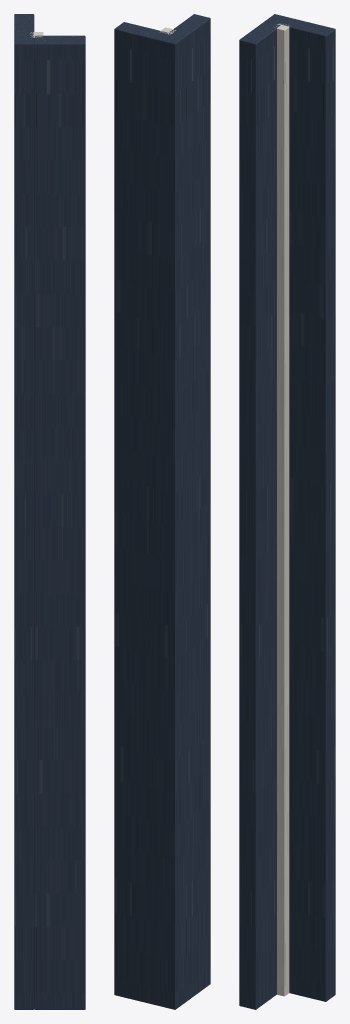
File: house_05_corner_trim.glb
3 views of the same model, side by side, from view 1: azimuth 90°, elevation 25°; view 2: azimuth 150°, elevation 25°; view 3: azimuth 330°, elevation 25° (orthographic).
Parts seen in each view (by area): view 1: house_05_corner_trim; view 2: house_05_corner_trim; view 3: house_05_corner_trim.
Part boxes in pixels (<box>): house_05_corner_trim: <box>14,14,85,1009</box>; house_05_corner_trim: <box>114,14,210,1009</box>; house_05_corner_trim: <box>239,14,335,1009</box>.
Bounding box in the file's own units: 0.18 × 2.7 × 0.18.
2 materials, 2 textured.
